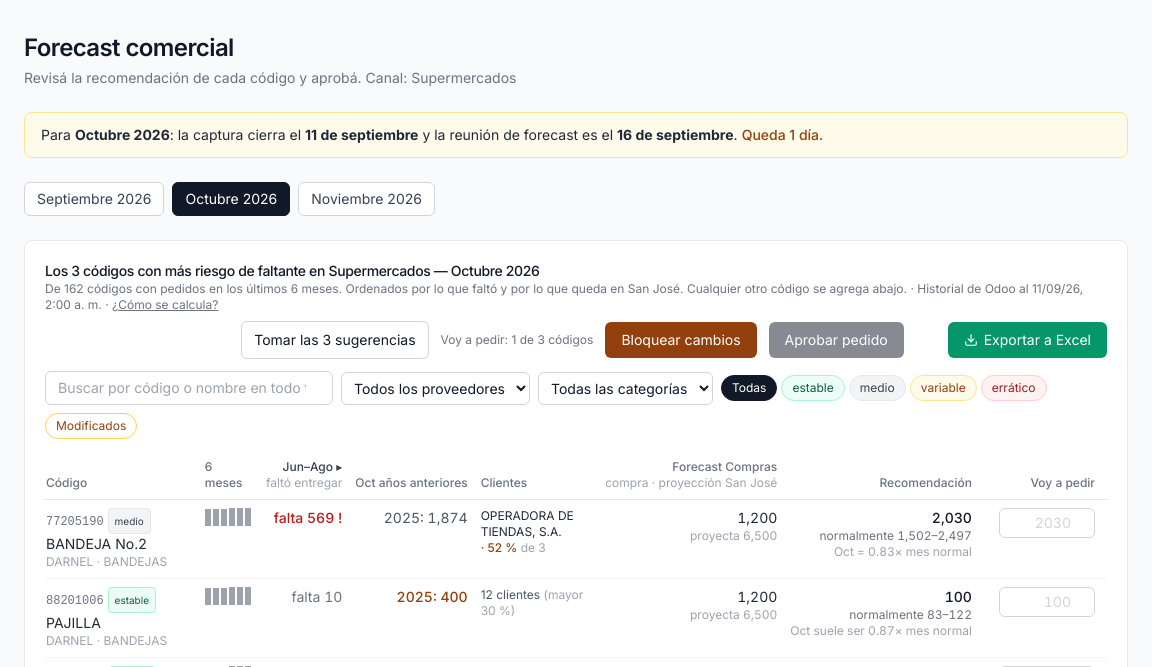
«Bloquear cambios» › pide confirmación, manda el POST y deja la tabla bloqueada, sin desbloquear para el canal
Expected: the text "77205190" is shown, [46,515,104,529]
Click the button "Bloquear cambios". click: x=681, y=340
box: [605,322,757,358]
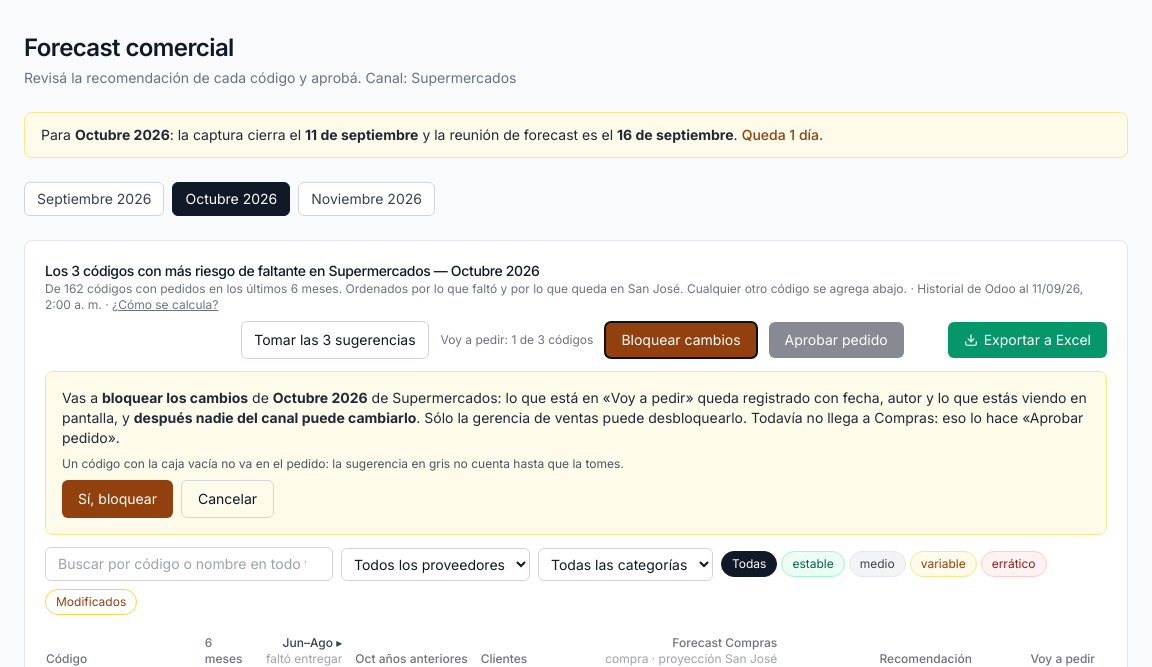
Expected: the element with test id "confirmar-bloqueo" shows "nadie del canal puede cambiarlo", [134,409,416,426]
Click the button "Sí, bloquear". click: x=118, y=499
box: [62,480,173,518]
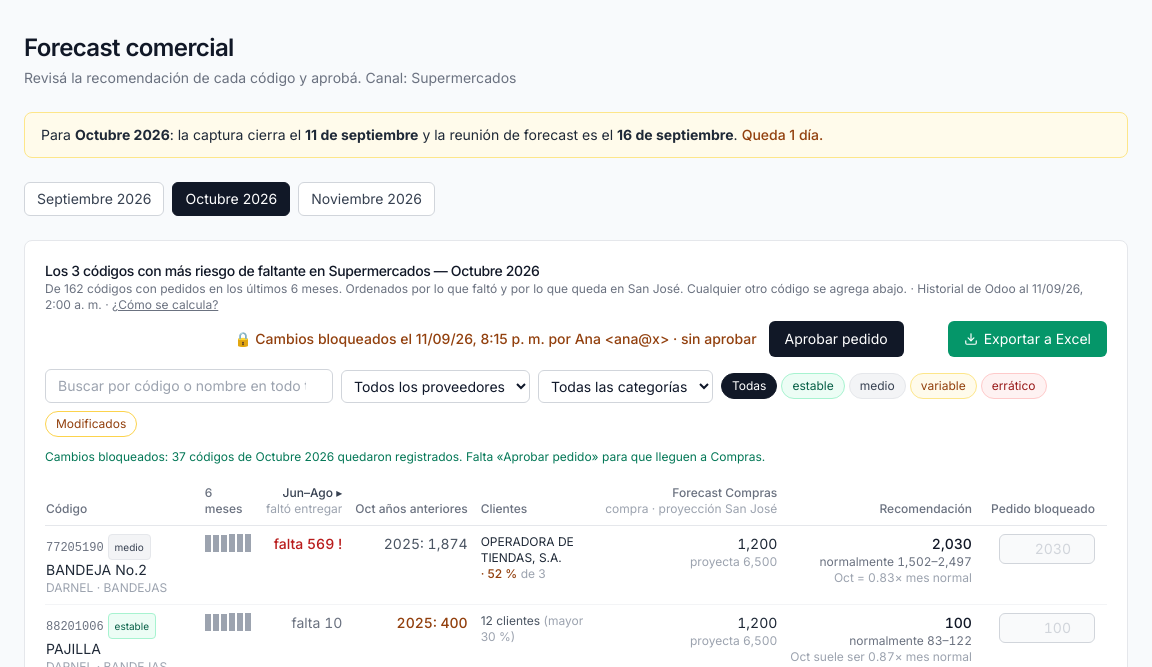
Expected: the text with test id "bloqueado" reads "🔒 Cambios bloqueados el 11/09/26, 8:15 p. m. por Ana <ana@x> · sin aprobar", [234,329,756,349]
Expected: the button "Bloquear cambios" is gone
Expected: the button "Tomar las" is gone
